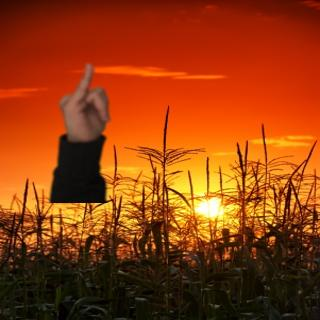HAVE: (55, 61, 120, 148)
